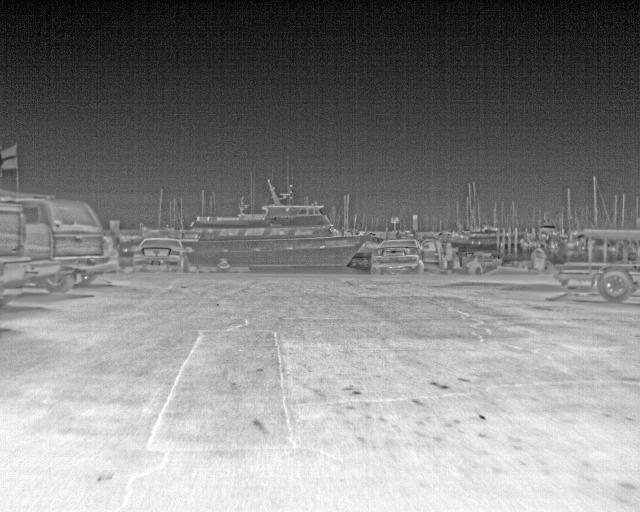bicycle: (0, 194, 101, 296), (368, 237, 446, 276), (1, 196, 26, 303), (129, 235, 193, 273), (27, 223, 63, 277), (102, 235, 122, 275)
empty: (442, 239, 456, 273), (465, 255, 485, 276)
